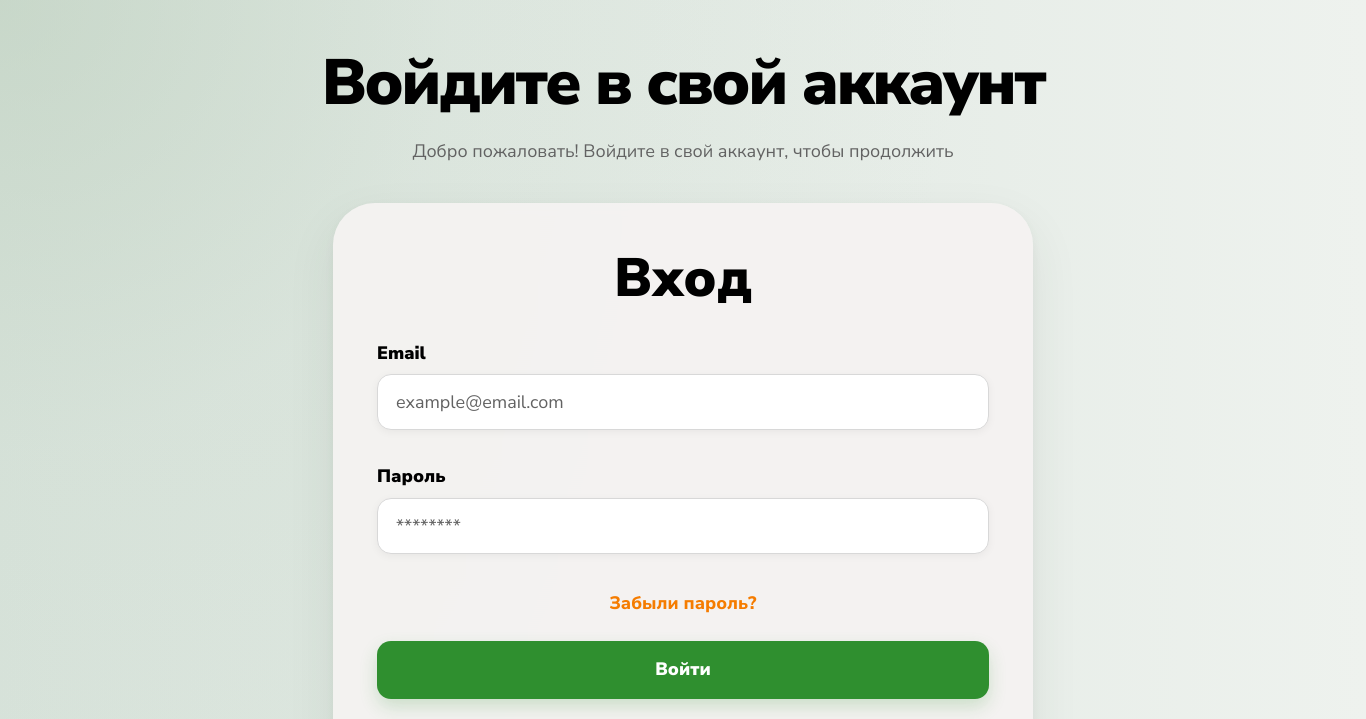
Test: LoginPage › shows request error from api
Type "test@mail.com" into the field labelled "Email" at (683, 402), box x1=377 y1=374 x2=989 y2=430
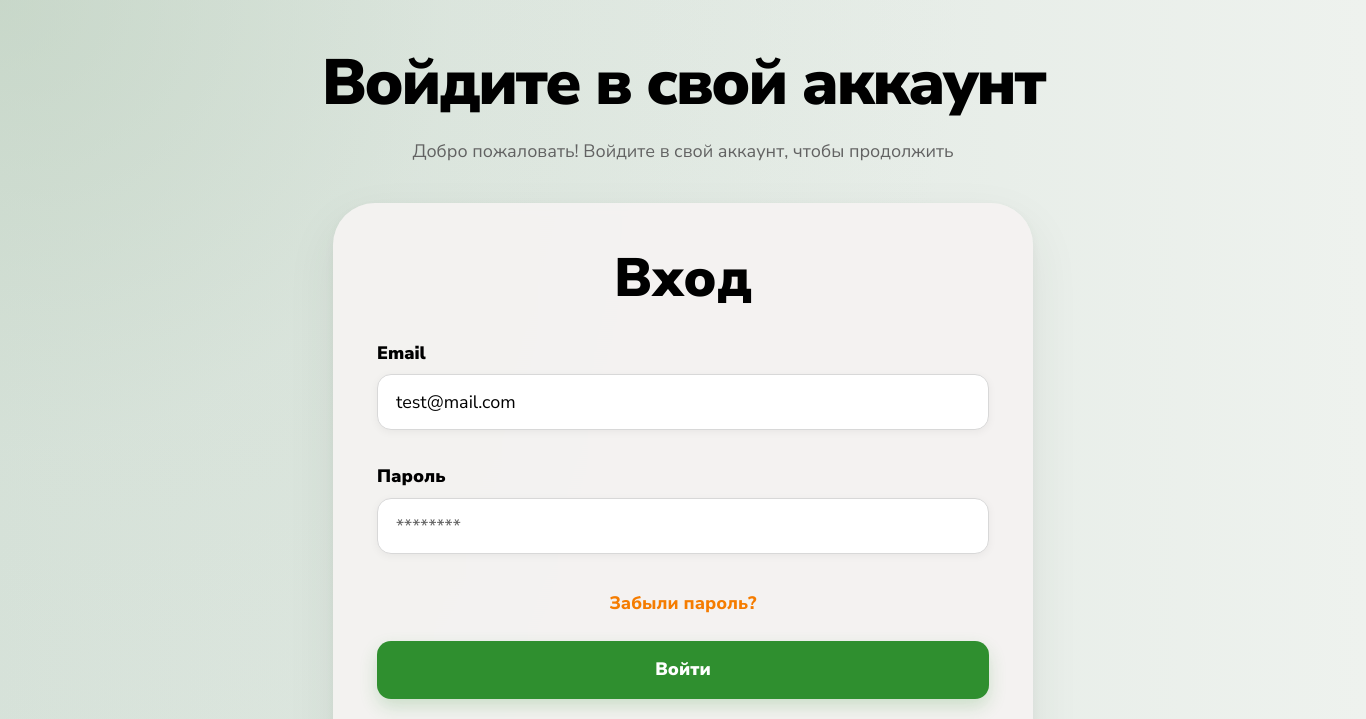
Type "wrong-password" into the password field labelled "Пароль" at (683, 526), box x1=377 y1=498 x2=989 y2=554
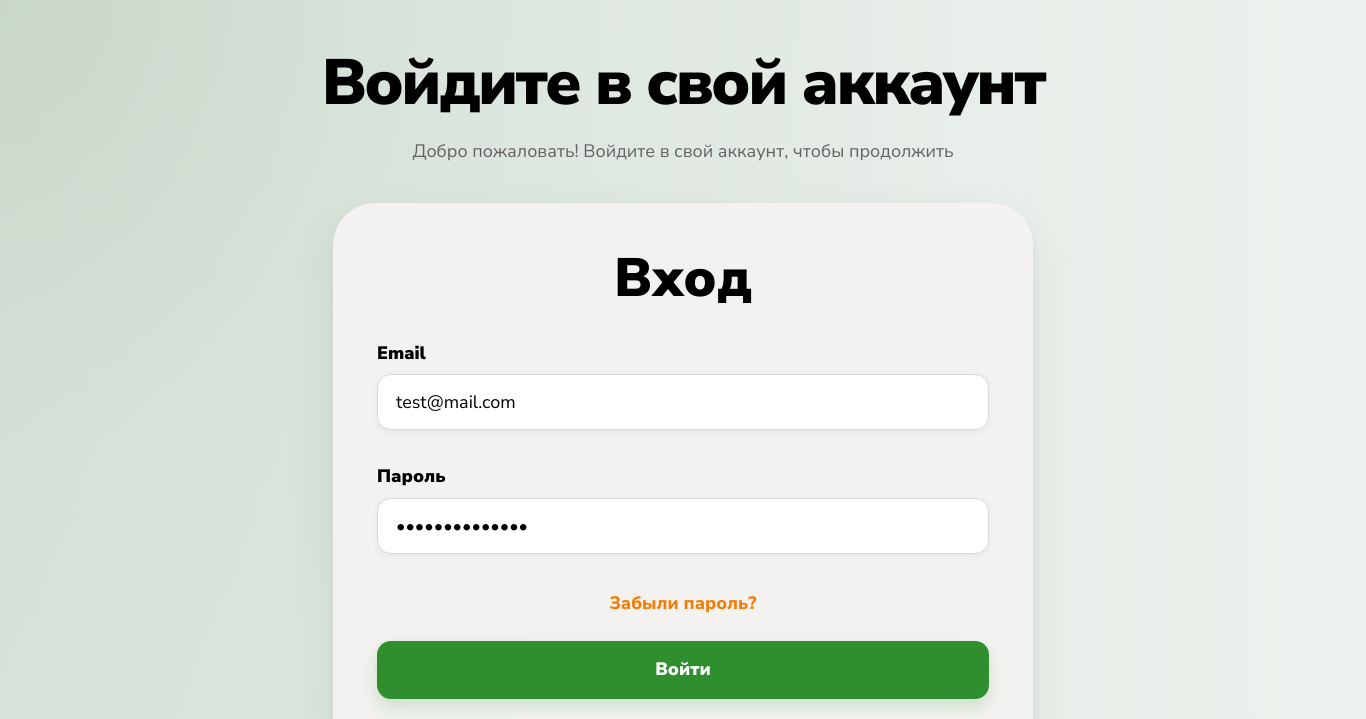
Click the button "Войти" at (683, 670), box x1=377 y1=641 x2=989 y2=699
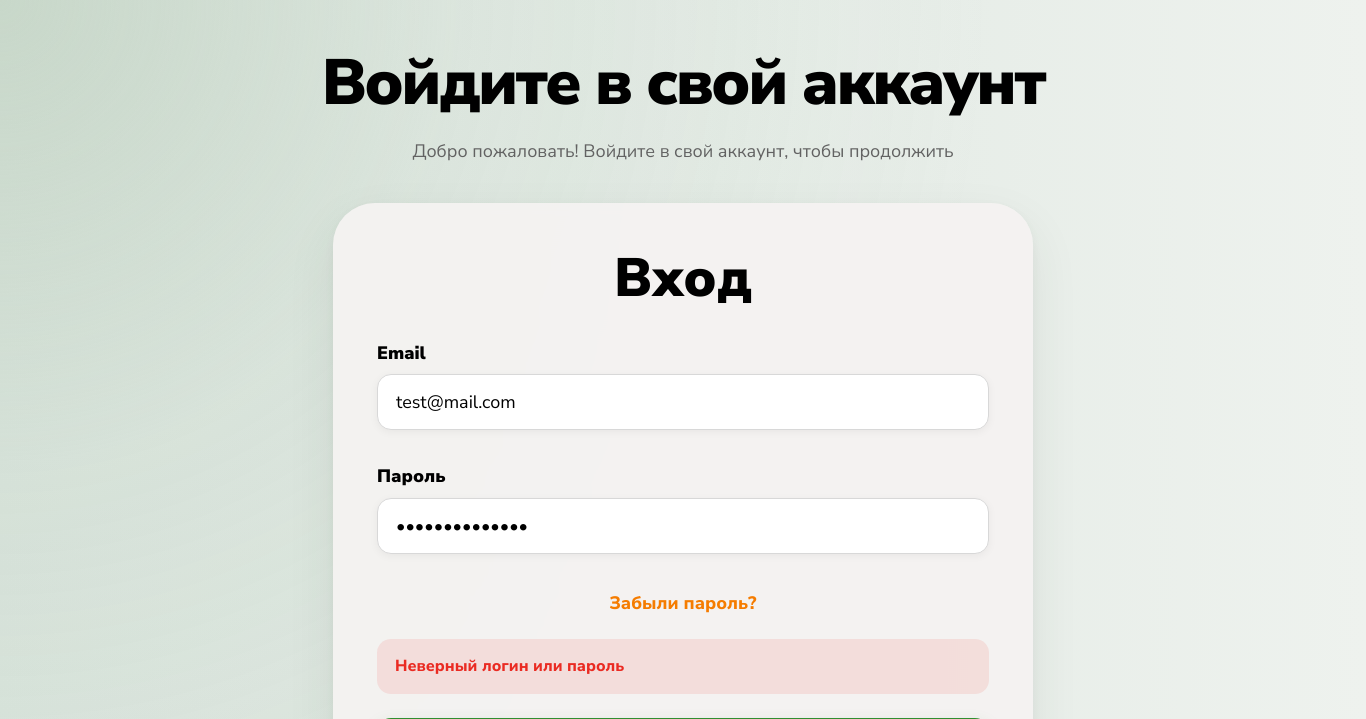
Now the text "Неверный логин или пароль" is shown, box x1=377 y1=639 x2=989 y2=694
